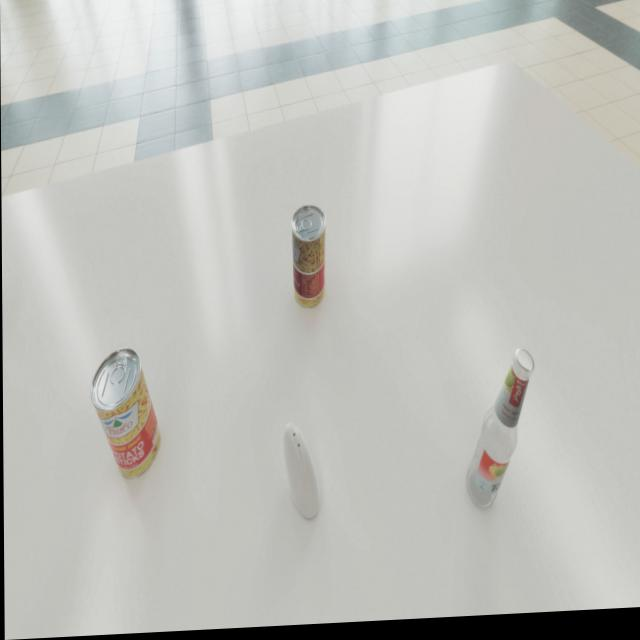Bottle: (464, 353, 534, 515)
Potato_sticks: (90, 348, 160, 482), (291, 208, 326, 312)
Salt: (282, 425, 320, 523)
